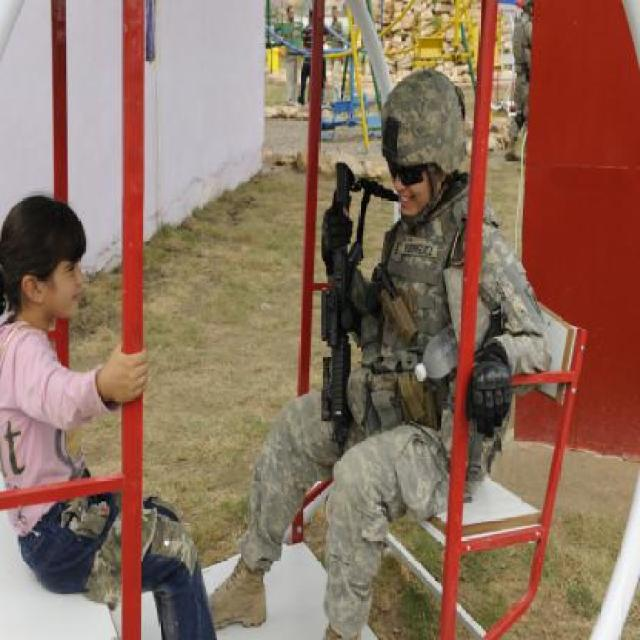obstacle: (208, 68, 552, 640), (0, 192, 217, 639), (504, 0, 530, 165), (296, 9, 335, 103), (280, 7, 302, 107), (329, 7, 345, 107)
